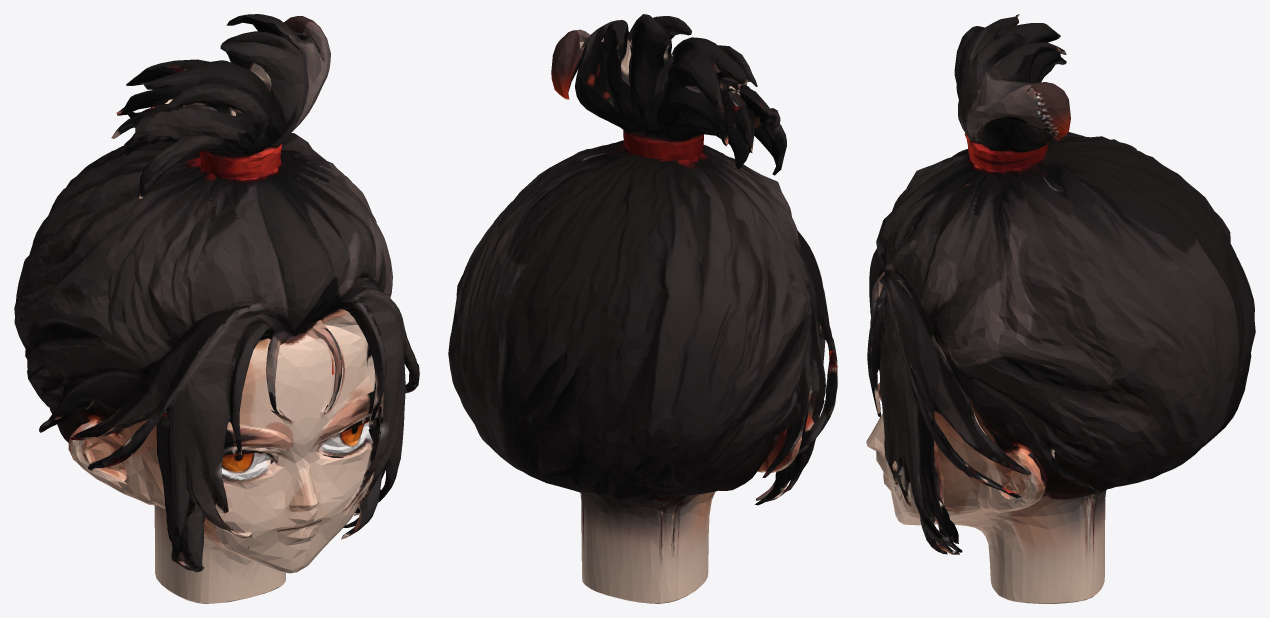
Rendered from side_noboru_repaired_atlas.glb.
The picture shows the model from 3 angles, left to right: view 1: azimuth 30°, elevation 25°; view 2: azimuth 150°, elevation 25°; view 3: azimuth 270°, elevation 25°; orthographic projection. The views are drawn at different scales.
Visible parts, largest first — view 1: temp_mesh.ply; view 2: temp_mesh.ply; view 3: temp_mesh.ply.
Part boxes in pixels (<box>): temp_mesh.ply: <box>14,14,419,603</box>; temp_mesh.ply: <box>448,14,837,603</box>; temp_mesh.ply: <box>866,14,1255,603</box>.
Size of the model in its own units: 1.25 by 1.97 by 1.27.
1 material, 1 textured.
